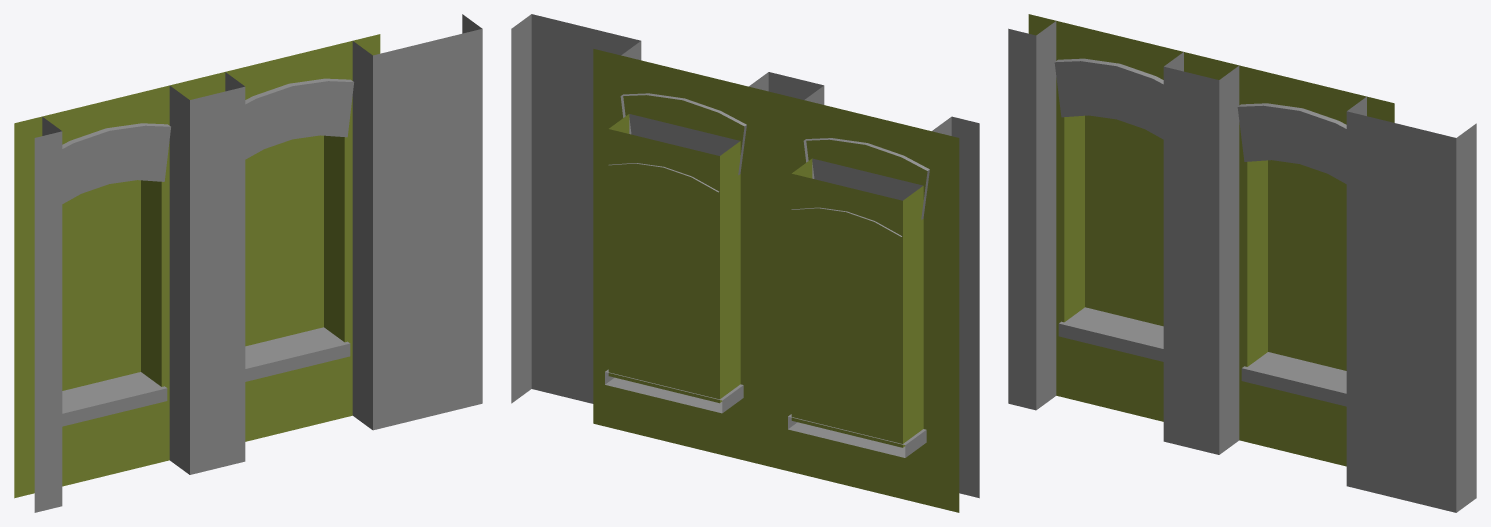
File: wall1b R.FBX
3 views of the same model, side by side, from view 1: azimuth 30°, elevation 25°; view 2: azimuth 150°, elevation 25°; view 3: azimuth 330°, elevation 25° (orthographic).
Parts seen in each view (by area): view 1: Object1060; view 2: Object1060; view 3: Object1060.
Boxes of the visible parts, bbox=[...] form: Object1060: bbox=[14, 14, 482, 512]; Object1060: bbox=[511, 14, 979, 512]; Object1060: bbox=[1008, 14, 1476, 512].
Bounding box in the file's own units: 5 × 4 × 0.809.
